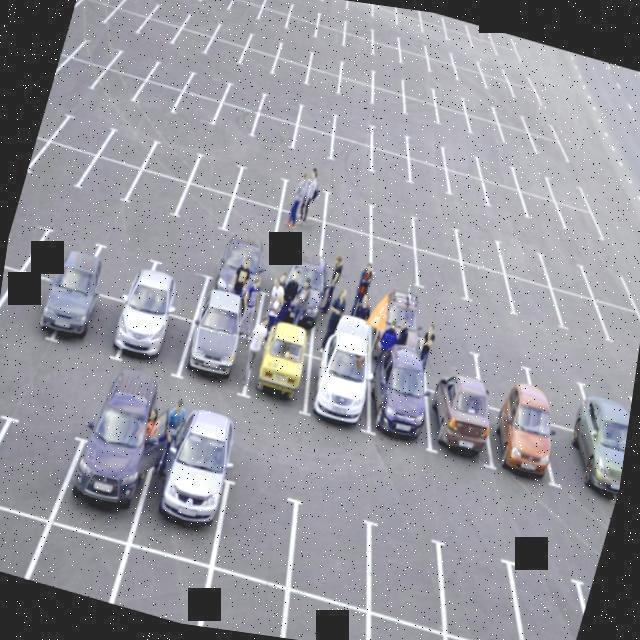space-empty: (194, 462, 322, 599), (343, 506, 467, 640), (275, 486, 389, 620), (414, 528, 546, 640), (0, 397, 78, 523), (113, 545, 211, 627), (26, 522, 123, 602), (497, 560, 593, 640), (192, 569, 298, 639), (514, 358, 600, 438), (24, 218, 102, 297), (80, 238, 157, 314), (465, 342, 543, 413), (0, 267, 68, 346), (414, 327, 490, 396), (544, 422, 612, 496), (286, 589, 383, 640), (576, 371, 635, 452), (307, 293, 374, 362), (138, 254, 205, 323), (498, 271, 570, 333), (214, 191, 288, 251), (545, 287, 613, 343), (127, 170, 190, 229), (405, 248, 474, 301), (27, 140, 90, 197), (79, 152, 140, 209), (360, 235, 425, 288), (46, 108, 114, 157), (574, 261, 640, 311), (270, 209, 331, 263), (173, 185, 232, 236), (488, 239, 556, 283), (534, 250, 600, 295), (456, 261, 514, 312), (98, 123, 157, 173), (362, 612, 467, 640), (143, 136, 199, 186), (406, 216, 468, 260), (322, 223, 377, 272), (0, 505, 36, 578), (446, 229, 510, 270), (189, 152, 243, 198), (316, 193, 375, 234), (277, 182, 332, 225), (588, 303, 640, 348), (90, 65, 148, 104), (233, 167, 289, 207), (170, 88, 226, 128), (554, 205, 610, 245), (53, 51, 105, 94), (325, 130, 375, 174), (365, 206, 421, 245), (538, 172, 594, 211), (477, 181, 531, 221), (363, 145, 417, 183), (69, 36, 126, 72), (442, 168, 494, 206), (517, 193, 569, 231), (506, 167, 561, 202), (134, 77, 183, 115), (251, 110, 300, 148), (405, 156, 454, 193), (473, 156, 523, 190), (402, 134, 452, 168), (185, 67, 232, 101), (292, 124, 337, 159), (110, 47, 159, 79), (213, 101, 260, 134), (108, 4, 152, 39), (369, 123, 415, 156), (295, 102, 341, 135), (146, 60, 194, 91), (438, 148, 488, 177), (332, 114, 377, 145), (462, 113, 507, 144), (260, 92, 302, 125), (368, 85, 410, 118), (225, 80, 267, 112), (174, 26, 216, 58), (206, 35, 248, 67), (488, 105, 534, 134), (514, 113, 560, 142), (239, 45, 278, 79), (446, 627, 547, 640), (527, 132, 570, 162), (72, 0, 118, 28), (332, 78, 376, 107), (458, 94, 502, 123), (270, 54, 312, 84), (367, 68, 411, 96), (139, 16, 182, 44), (150, 1, 191, 29), (212, 22, 253, 50), (303, 64, 344, 92), (400, 79, 441, 107), (401, 96, 442, 124), (494, 126, 537, 152), (183, 12, 222, 40), (284, 11, 323, 38), (339, 31, 378, 58), (394, 33, 433, 60), (278, 40, 315, 68), (306, 48, 347, 73), (338, 60, 379, 85), (430, 89, 471, 114), (246, 29, 283, 56), (313, 6, 350, 33), (434, 109, 473, 134), (368, 39, 406, 64), (420, 43, 458, 68), (254, 4, 289, 31), (497, 67, 536, 90), (477, 59, 512, 84), (368, 27, 406, 50), (311, 23, 347, 47), (341, 15, 377, 39), (114, 0, 160, 18), (226, 0, 265, 21), (428, 60, 462, 83), (507, 84, 544, 105), (461, 23, 498, 44), (437, 16, 472, 38), (398, 55, 436, 75), (450, 52, 481, 74), (482, 78, 516, 98), (258, 0, 295, 18), (391, 14, 424, 34), (486, 29, 519, 49), (288, 0, 322, 19), (492, 43, 524, 63), (456, 69, 488, 88), (415, 21, 447, 40), (443, 27, 474, 46), (342, 1, 378, 17), (418, 11, 448, 30), (198, 0, 237, 14), (462, 40, 496, 56), (394, 8, 425, 24), (371, 9, 395, 25), (370, 4, 399, 16), (84, 0, 130, 7), (167, 0, 207, 7), (233, 0, 267, 8), (344, 1, 376, 8), (322, 0, 348, 7)
space-occupied: (128, 432, 241, 574), (57, 409, 161, 541), (420, 389, 500, 476), (298, 353, 380, 437), (357, 373, 439, 457), (477, 402, 558, 483), (191, 261, 273, 338), (255, 263, 330, 344), (49, 274, 122, 355), (186, 319, 258, 400), (117, 304, 192, 380), (244, 340, 317, 418), (365, 301, 431, 374), (580, 423, 633, 487)
